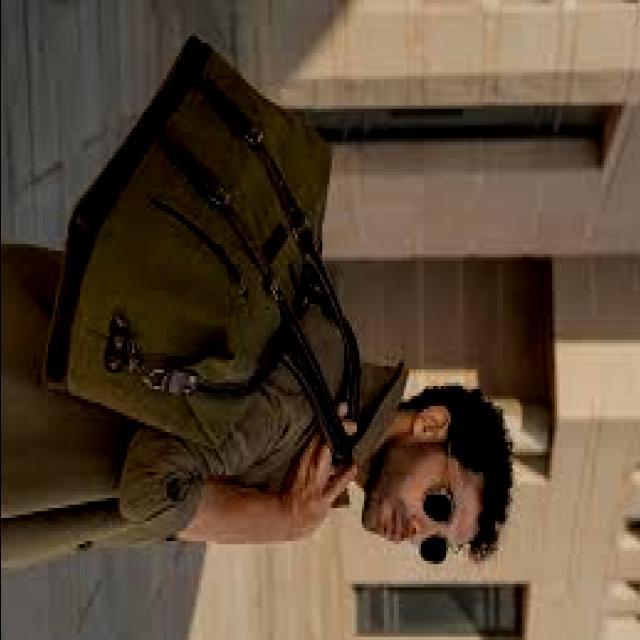backpack: (43, 34, 364, 490)
